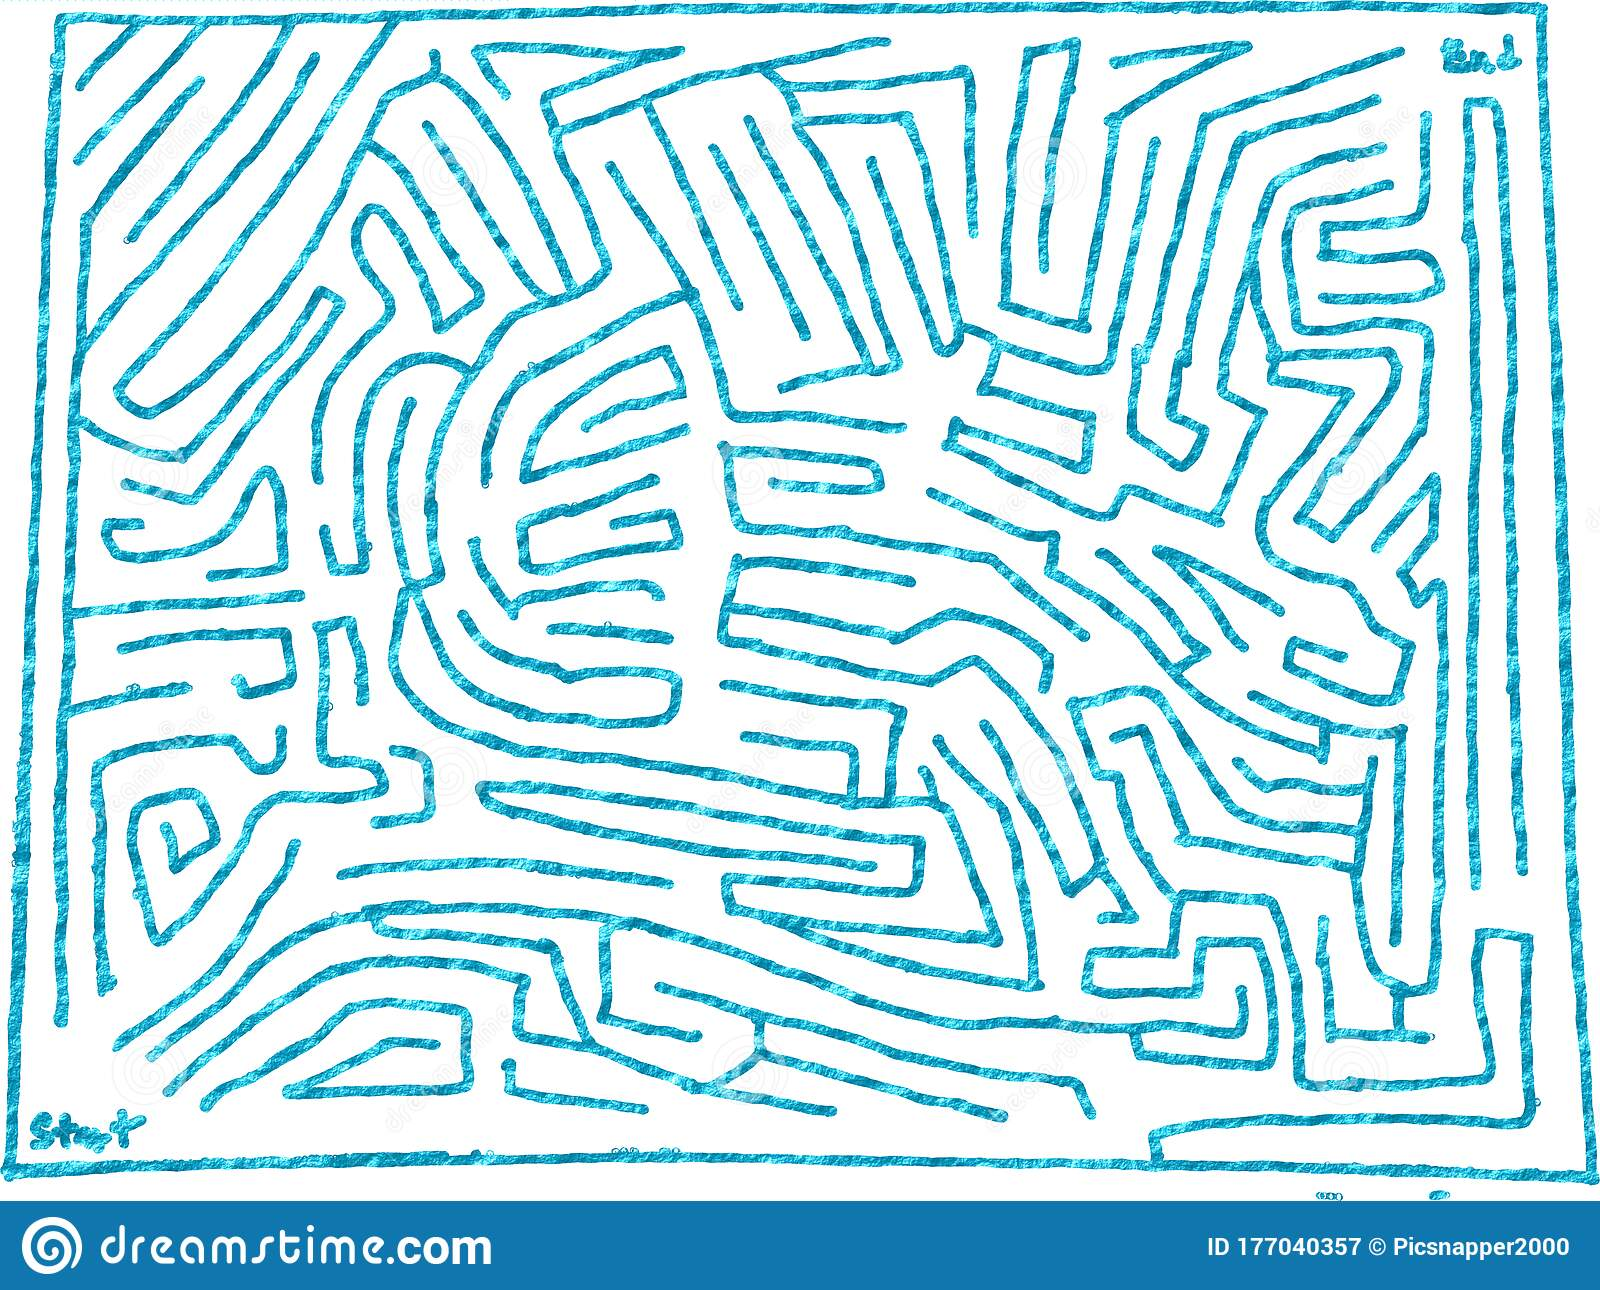maze: (14, 3, 1595, 1177)
